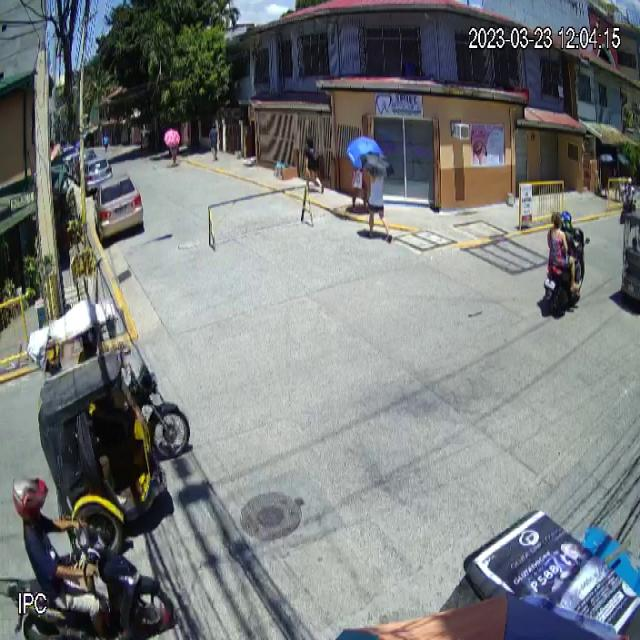Tricycle: (28, 294, 190, 554)
